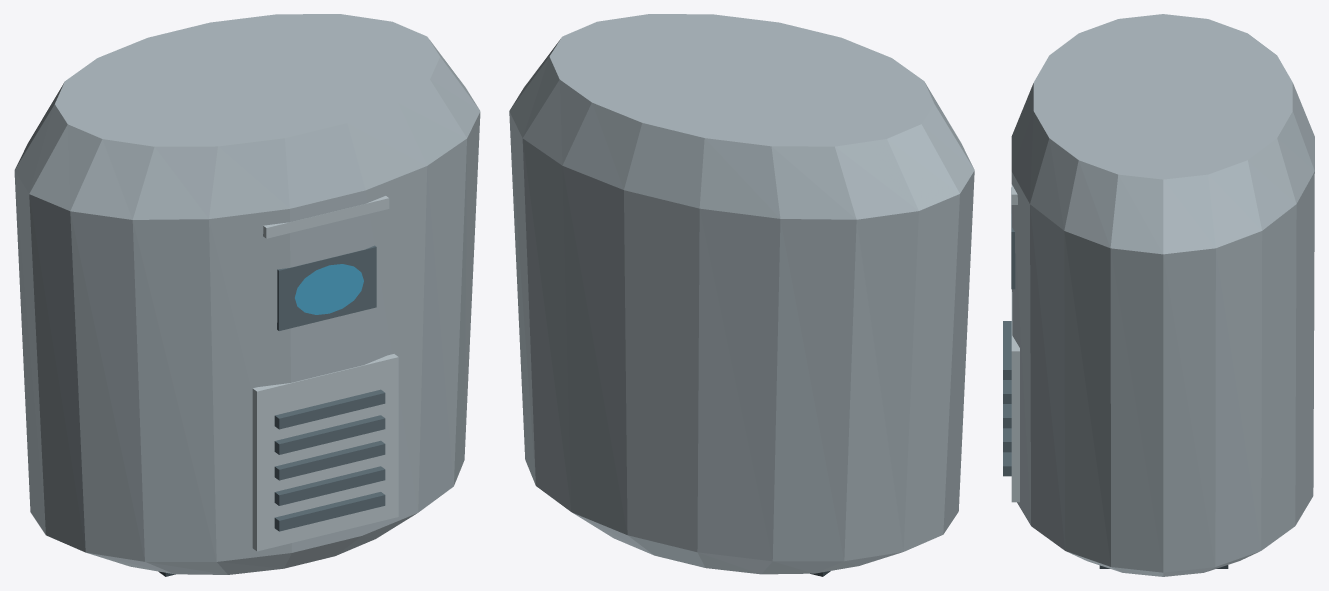
The model's file is 05_wall_hand_dryer_improved.glb.
3 renders of one model, left to right at view 1: azimuth 30°, elevation 25°; view 2: azimuth 150°, elevation 25°; view 3: azimuth 270°, elevation 25°, orthographic. The views are drawn at different scales.
Parts seen in each view (by area): view 1: lower_outlet_opening; view 2: lower_outlet_opening; view 3: lower_outlet_opening.
Boxes of the visible parts, x1=… form: lower_outlet_opening: x1=14, y1=14, x2=480, y2=576; lower_outlet_opening: x1=509, y1=14, x2=974, y2=576; lower_outlet_opening: x1=1003, y1=14, x2=1314, y2=576.
Bounding box in the file's own units: 0.34 × 0.3303 × 0.2227.
